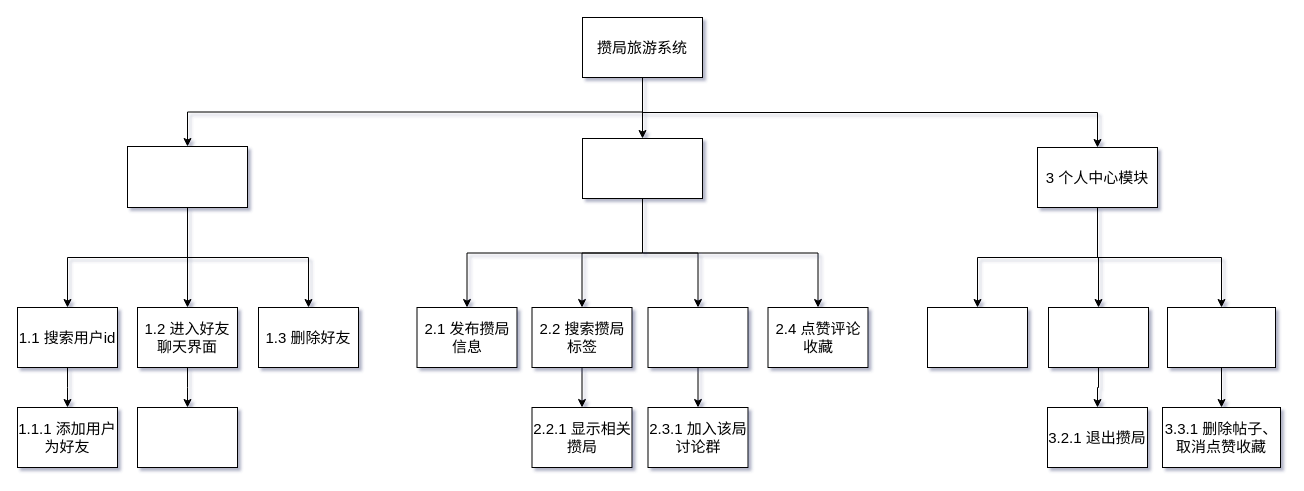
Image size: 1304x491. Some labels were removed from this diagram. Here are the shapes that lost their labels. From the top down, the centre of each, then its label:
At (x=187, y=177): "1 好友聊天模块".
At (x=642, y=168): "2 攒局帖子模块".
At (x=697, y=337): "2.3 参加攒局".
At (x=977, y=337): "3.1 用户信息查看和修改".
At (x=1098, y=337): "3.2 我的攒局信息查看".
At (x=1221, y=337): "3.3 我的点赞、收藏、发布".
At (x=187, y=437): "1.2.1 发送和接收消息".
